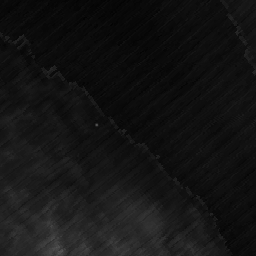Target: (94, 122, 100, 128)
